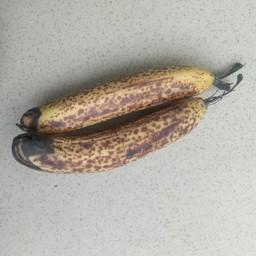Bad_banana: (12, 103, 210, 173), (15, 65, 225, 120)
